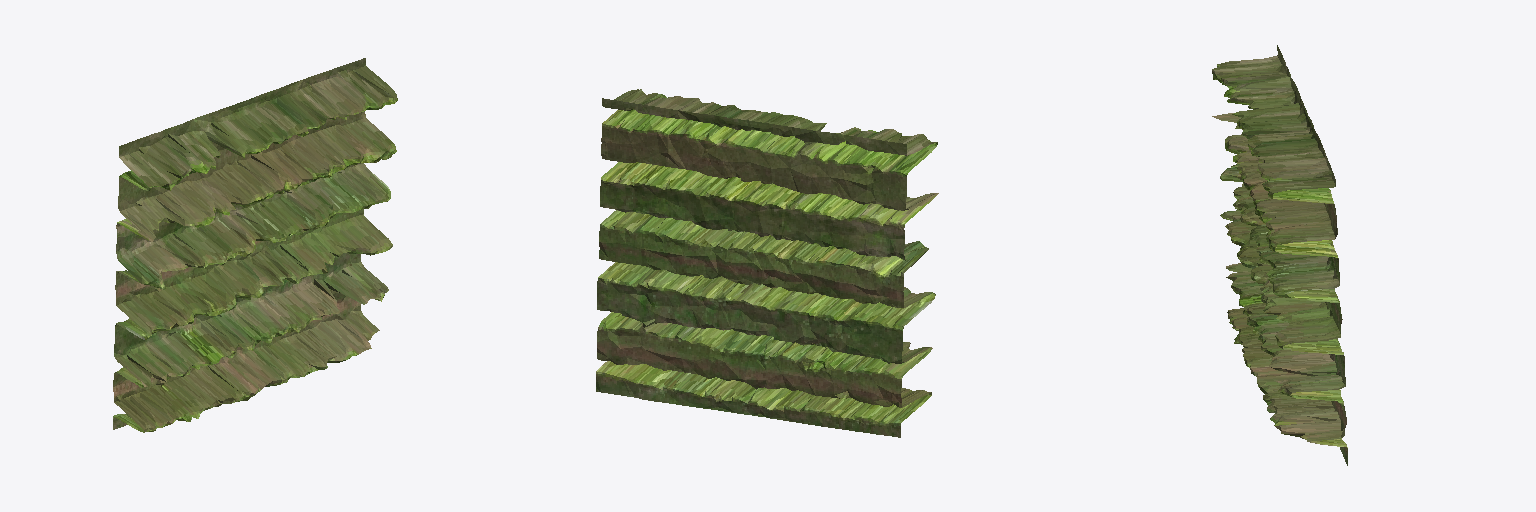
The picture shows the model from 3 angles: view 1: azimuth 30°, elevation 25°; view 2: azimuth 150°, elevation 25°; view 3: azimuth 270°, elevation 25°; orthographic projection.
Visible parts, largest first — view 1: grp1; view 2: grp1; view 3: grp1.
Part boxes in pixels (left/top/right/bottom): grp1: left=113, top=58, right=397, bottom=432; grp1: left=596, top=89, right=938, bottom=437; grp1: left=1212, top=45, right=1347, bottom=465.
Size of the model in its own units: 10 by 10 by 4.29.
Materials: 1 (1 with a texture image).